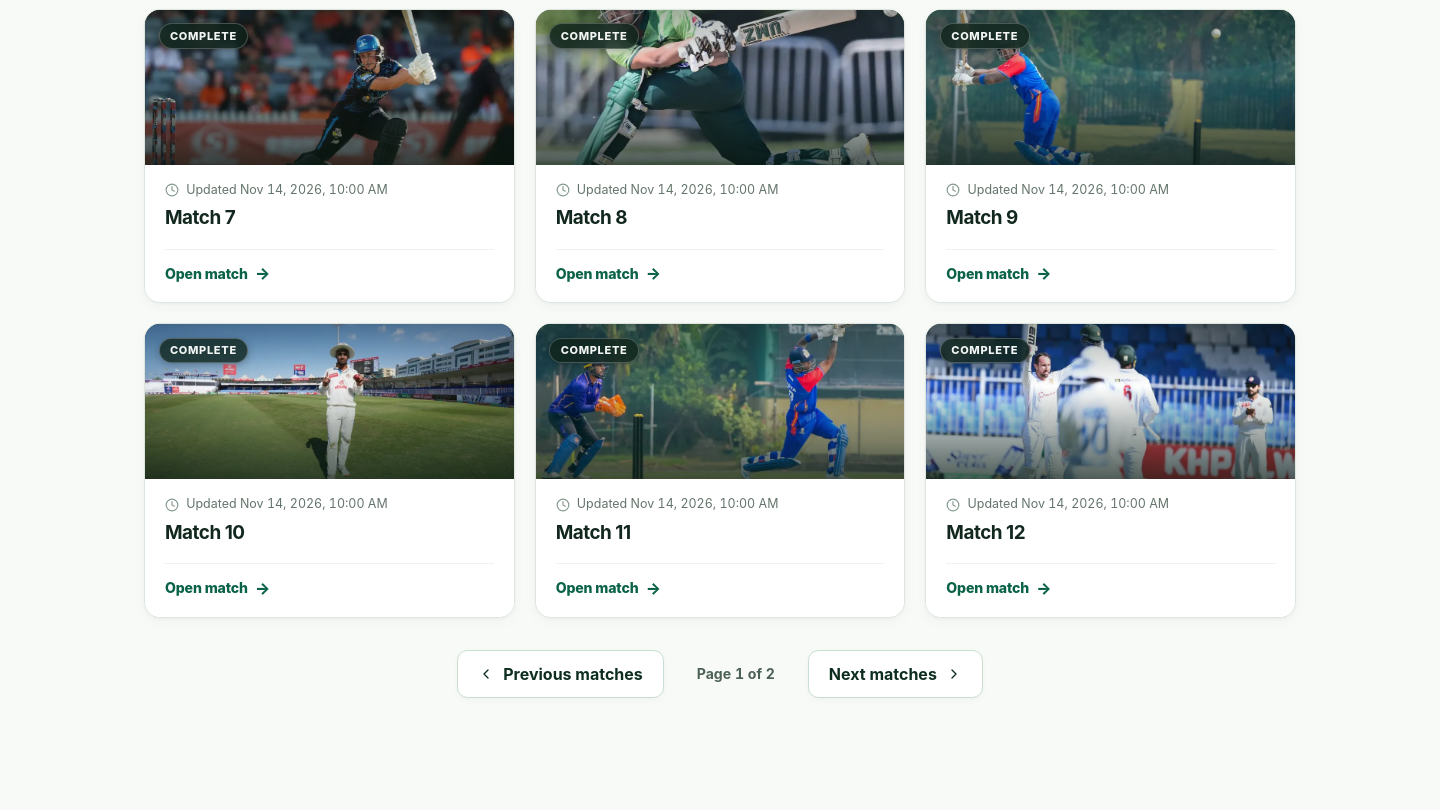
Test: MatchDirectory › paginates match cards without changing the directory request contract
This screenshot has width=1440, height=810.
(page scrolled)
Expected: the text "Match 13" is not shown
Expected: the button "Previous matches" is disabled, [457, 650, 664, 698]
Click the button "Next matches".
click(895, 674)  # box [808, 650, 983, 698]
(page scrolled)
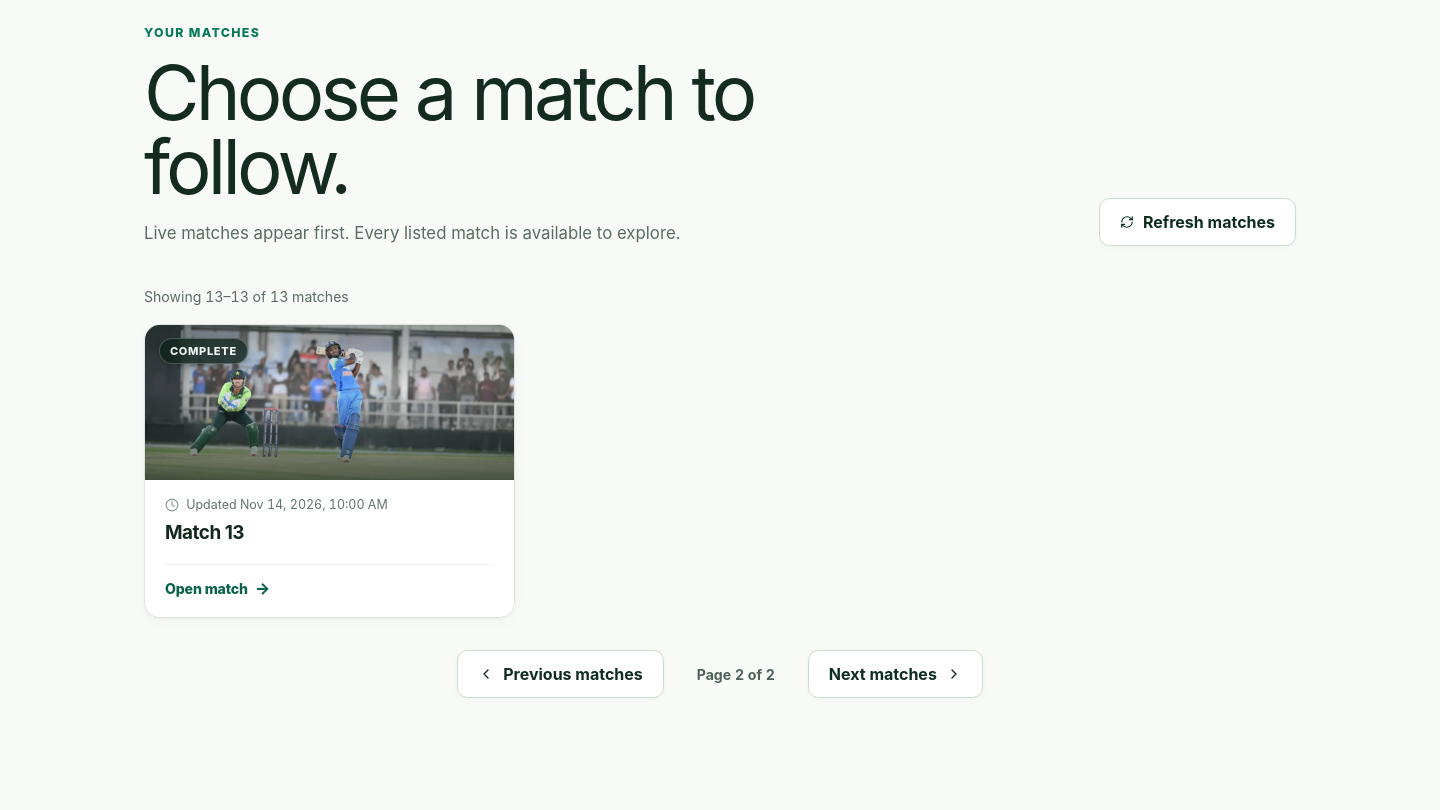
Result: the text "Showing 13–13 of 13 matches" is shown at [144, 288, 349, 305]
Result: the text "Match 13" is shown at [165, 521, 244, 544]
